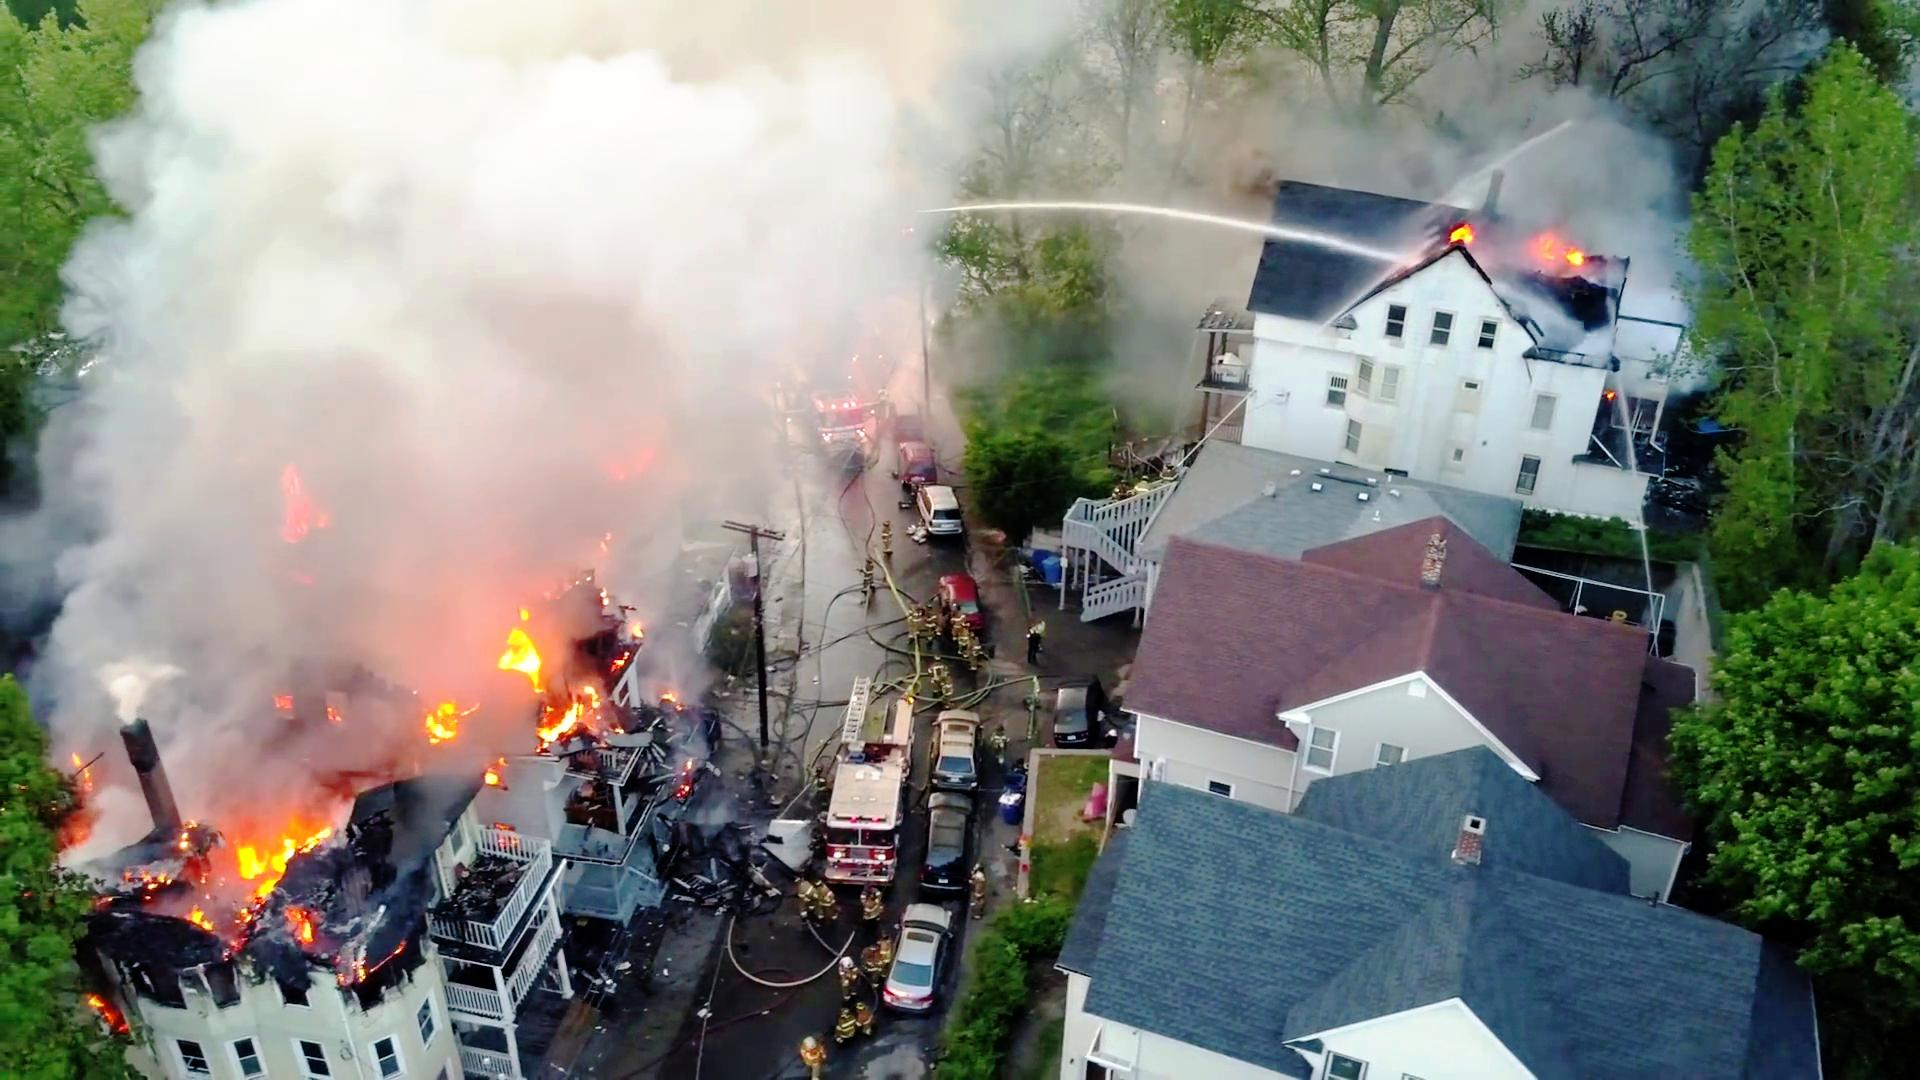fire: (223, 823, 322, 930), (493, 621, 546, 695)
smoke: (245, 13, 828, 375)
